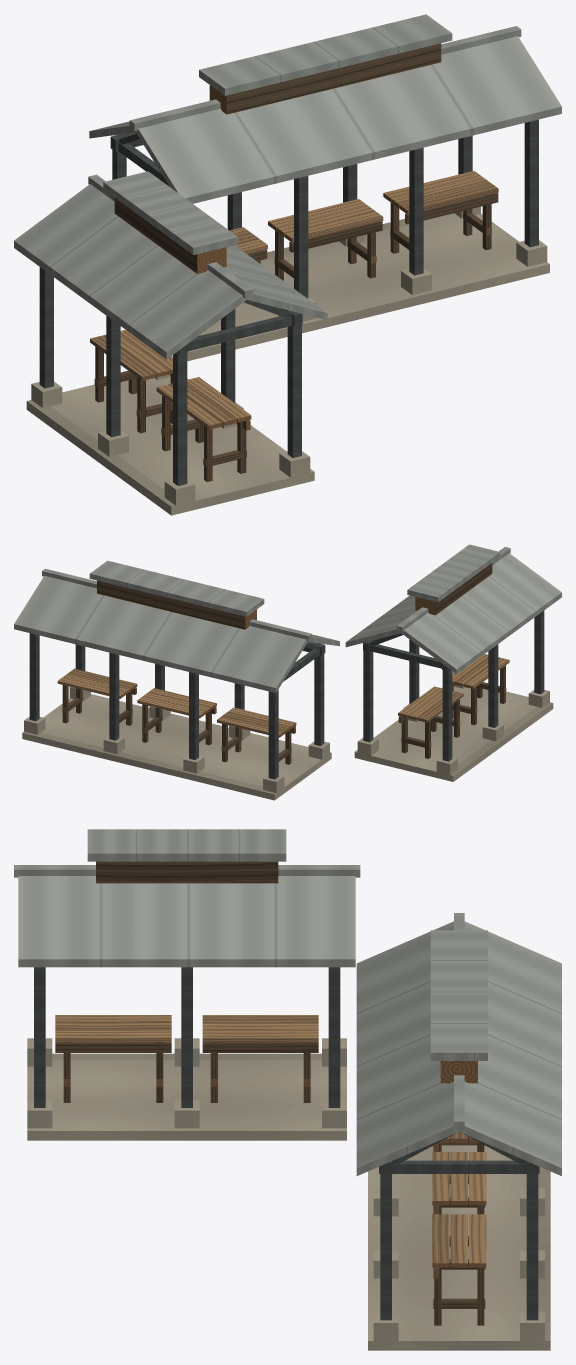
Rendered from bujumbura.glb.
The picture shows the model from 3 angles, top to bottom: view 1: azimuth 30°, elevation 25°; view 2: azimuth 150°, elevation 25°; view 3: azimuth 270°, elevation 25°; orthographic projection. The views are drawn at different scales.
Parts seen in each view (by area): view 1: bujumbura; view 2: bujumbura; view 3: bujumbura.
Boxes of the visible parts, x1,y1,x2,y2 form: bujumbura: (14, 14, 561, 515); bujumbura: (14, 544, 561, 800); bujumbura: (14, 829, 561, 1350).
Size of the model in its own units: 6.13 by 2.5 by 4.77.
1 material, 1 textured.
